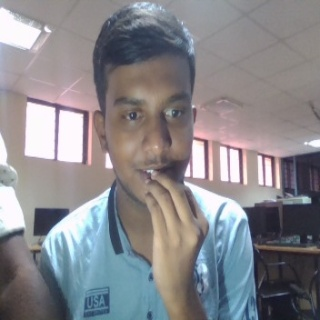Food: (141, 168, 212, 309)
